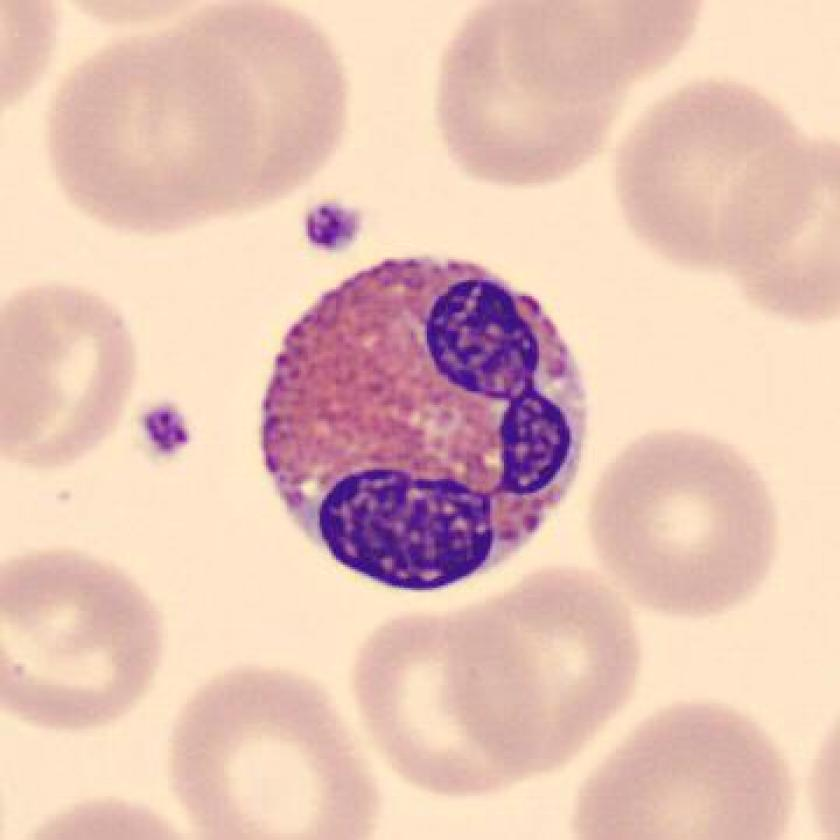eosinophil: (246, 240, 605, 608)
